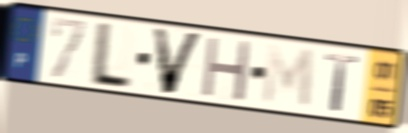7: (48, 14, 88, 82)
H: (200, 34, 255, 104)
L: (86, 20, 135, 92)
M: (260, 42, 316, 112)
T: (323, 51, 362, 114)
V: (150, 25, 206, 97)
